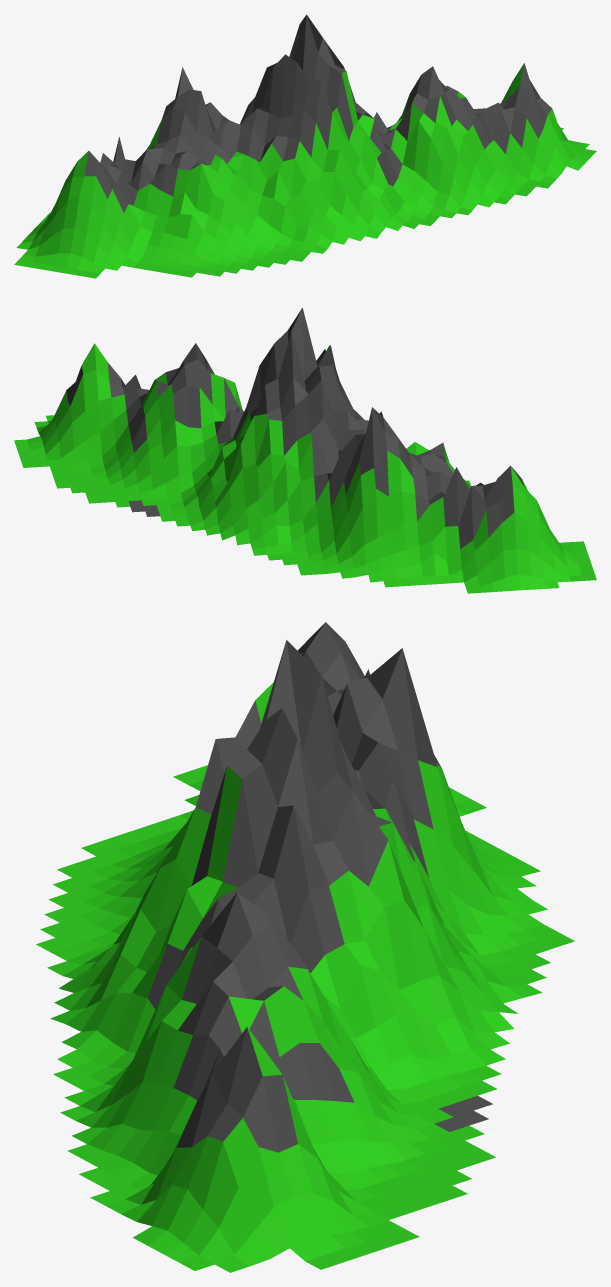
Rendered from ChaineMontagne.obj.
The picture shows the model from 3 angles, top to bottom: view 1: azimuth 30°, elevation 25°; view 2: azimuth 150°, elevation 25°; view 3: azimuth 270°, elevation 25°; orthographic projection. The views are drawn at different scales.
Visible parts, largest first — view 1: Plane_Plane.001; view 2: Plane_Plane.001; view 3: Plane_Plane.001.
Boxes of the visible parts, x1=… form: Plane_Plane.001: x1=14, y1=14, x2=596, y2=278; Plane_Plane.001: x1=14, y1=308, x2=596, y2=593; Plane_Plane.001: x1=36, y1=622, x2=574, y2=1272.
Size of the model in its own units: 37.68 by 12 by 15.85.
